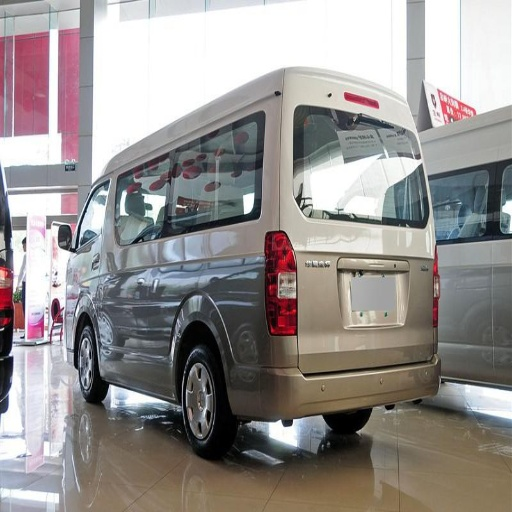back_bumper: (244, 317, 439, 412)
back_left_light: (264, 232, 296, 335)
back_right_door: (202, 112, 259, 154)
tailgate: (332, 218, 426, 325)
trunk: (270, 220, 430, 374), (148, 270, 247, 351)
